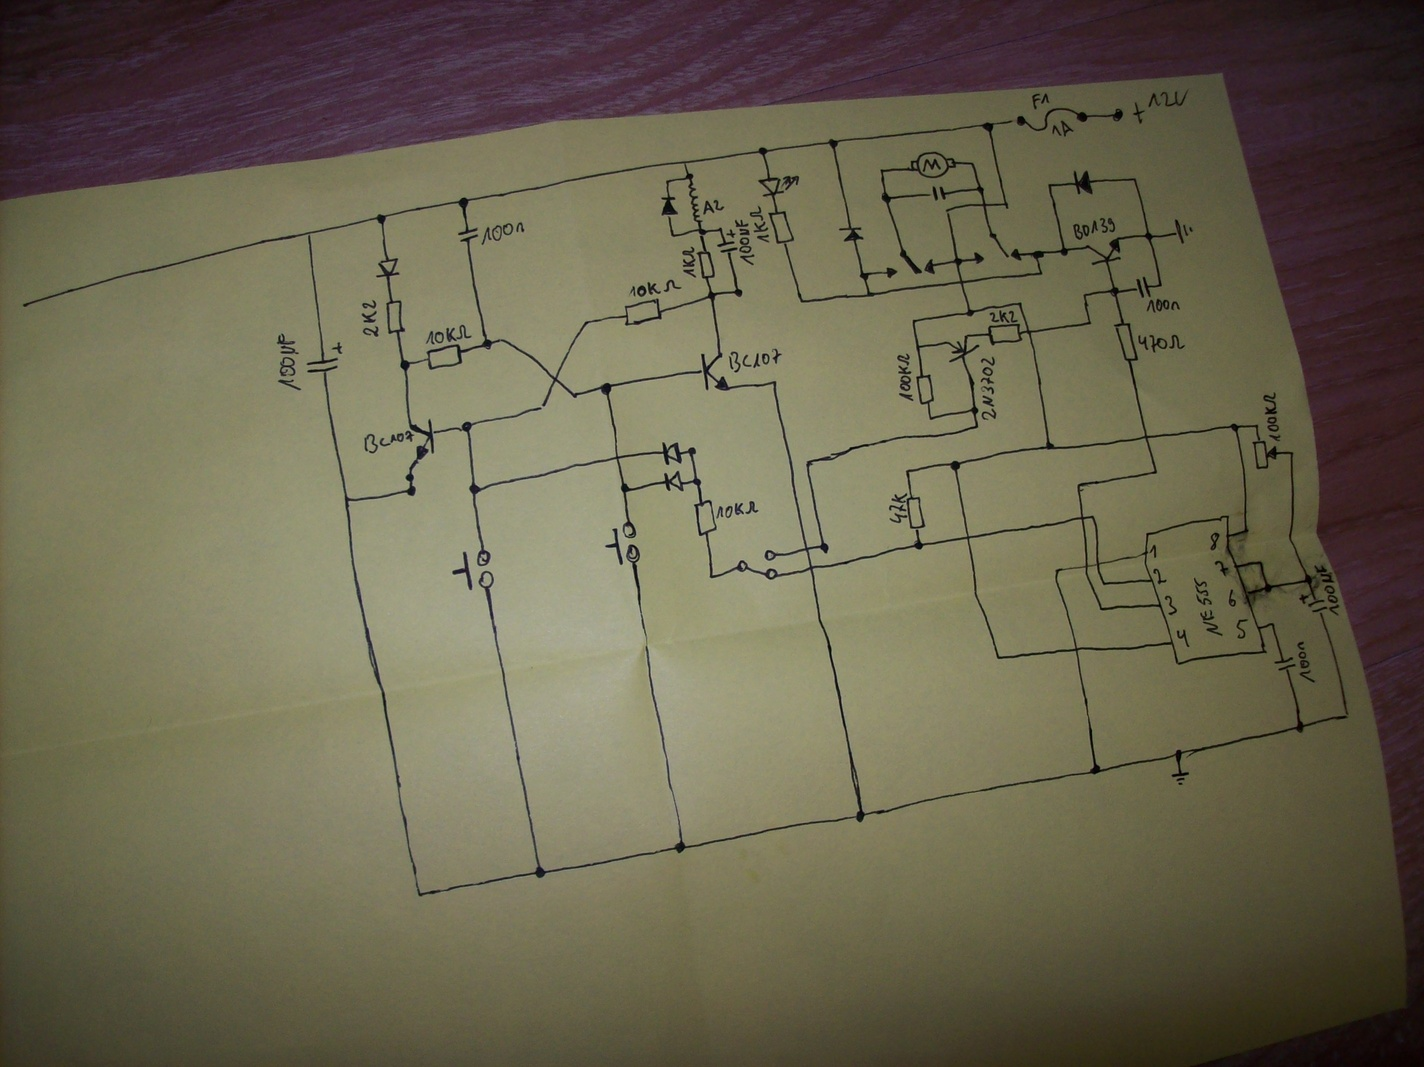capacitor.polarized: (305, 341, 344, 377), (1299, 593, 1329, 615), (716, 229, 738, 256)
capacitor.unpolarized: (1273, 655, 1297, 674), (1134, 275, 1153, 299), (457, 226, 480, 245), (929, 184, 950, 203)
crossover: (549, 374, 564, 386), (612, 453, 622, 463), (964, 532, 974, 542), (1072, 644, 1082, 655), (1078, 513, 1088, 523), (806, 563, 817, 572), (957, 278, 967, 287), (1142, 433, 1152, 440), (980, 201, 990, 208), (802, 545, 812, 553), (1082, 563, 1091, 570), (1093, 562, 1104, 568)
diode: (660, 440, 685, 466), (375, 256, 401, 280), (1072, 168, 1095, 196), (663, 468, 686, 494), (837, 225, 866, 243), (660, 194, 679, 219)
diode.light_emitting: (757, 174, 801, 198)
fuse: (1011, 106, 1089, 132)
gnd: (1172, 219, 1195, 245), (1170, 768, 1191, 787)
inductor: (686, 180, 704, 223)
integrated_cricuit.ne555: (1144, 514, 1268, 665)
junction: (468, 482, 483, 497), (533, 865, 548, 880), (673, 839, 688, 854), (879, 191, 894, 205), (980, 120, 996, 133), (599, 381, 613, 396), (854, 809, 868, 823), (1088, 763, 1102, 777), (1293, 720, 1305, 735), (827, 137, 840, 150), (459, 420, 474, 433), (480, 338, 494, 351), (399, 358, 411, 372), (912, 539, 927, 551), (1302, 572, 1314, 586), (1031, 249, 1046, 260), (818, 542, 831, 555), (457, 196, 471, 208), (375, 213, 388, 226), (1172, 748, 1185, 760), (949, 460, 962, 472), (686, 445, 698, 457), (1109, 285, 1121, 297), (757, 145, 770, 157), (620, 482, 631, 495), (1044, 440, 1058, 452), (415, 889, 427, 900), (1341, 709, 1353, 721), (706, 290, 718, 301), (952, 256, 965, 267), (1143, 231, 1155, 242), (969, 405, 981, 416), (864, 290, 877, 300), (964, 308, 977, 318), (974, 185, 987, 195), (691, 476, 702, 488), (406, 486, 417, 498), (1059, 245, 1070, 257), (1229, 423, 1241, 433), (858, 271, 871, 281), (733, 288, 744, 298), (1000, 200, 1012, 210), (697, 228, 708, 238), (804, 457, 815, 468), (943, 206, 955, 216), (569, 391, 581, 400), (770, 378, 780, 388), (1263, 583, 1273, 593), (1089, 512, 1099, 522), (1052, 566, 1062, 576), (1046, 180, 1057, 191), (1155, 280, 1165, 290), (797, 297, 808, 306), (685, 171, 696, 180), (707, 570, 716, 581), (581, 318, 592, 327), (1085, 318, 1095, 327), (1024, 327, 1034, 336), (1074, 481, 1085, 490), (994, 653, 1004, 662), (305, 229, 314, 239), (927, 412, 936, 423), (913, 343, 924, 351), (342, 494, 351, 503), (1097, 604, 1106, 613), (910, 317, 919, 326), (1036, 268, 1045, 277), (1130, 175, 1139, 184), (878, 166, 887, 175), (972, 423, 981, 432), (1100, 579, 1109, 588), (903, 468, 913, 476), (538, 402, 546, 411), (497, 336, 506, 344), (1256, 558, 1265, 566), (1151, 468, 1160, 476), (669, 231, 678, 239), (1253, 423, 1262, 430), (1268, 620, 1276, 628), (1081, 291, 1089, 299), (717, 225, 725, 233), (968, 160, 977, 167), (681, 159, 690, 166), (1242, 527, 1250, 533), (664, 178, 671, 186), (1016, 300, 1023, 307)
motor: (910, 150, 958, 179)
resistor: (623, 297, 663, 327), (1113, 321, 1139, 364), (425, 343, 465, 371), (767, 210, 795, 245), (694, 498, 718, 538), (986, 323, 1024, 346), (385, 298, 407, 336), (906, 495, 927, 532), (696, 249, 717, 280), (915, 373, 936, 405)
resistor.adjustable: (1251, 438, 1299, 470)
switch: (452, 548, 497, 592), (603, 519, 643, 568), (972, 230, 1024, 265), (885, 249, 937, 281), (735, 548, 780, 581)
terminal: (1110, 106, 1126, 124), (18, 299, 34, 310)
text: (1132, 87, 1189, 126), (1192, 576, 1223, 637), (274, 332, 303, 393), (728, 347, 784, 375), (1313, 564, 1342, 618), (980, 355, 999, 423), (363, 430, 415, 455), (629, 278, 683, 298), (481, 221, 525, 245), (1071, 216, 1116, 241), (1262, 390, 1283, 442), (734, 219, 756, 267), (1137, 333, 1186, 354), (425, 324, 473, 345), (895, 351, 914, 405), (1296, 640, 1316, 685), (716, 500, 760, 520), (360, 298, 381, 338), (750, 205, 771, 244), (888, 492, 909, 525), (1146, 298, 1181, 314), (681, 245, 697, 280), (1051, 119, 1074, 138), (989, 309, 1018, 324), (1030, 91, 1051, 110), (702, 198, 725, 216), (1175, 627, 1191, 649), (1164, 594, 1179, 616), (1235, 618, 1249, 640), (1152, 567, 1169, 585), (1214, 558, 1230, 577), (1209, 531, 1221, 551), (1227, 588, 1238, 607), (1148, 542, 1160, 560)
transistor: (407, 418, 436, 470), (699, 349, 730, 395), (944, 334, 980, 364), (1086, 236, 1123, 266)
